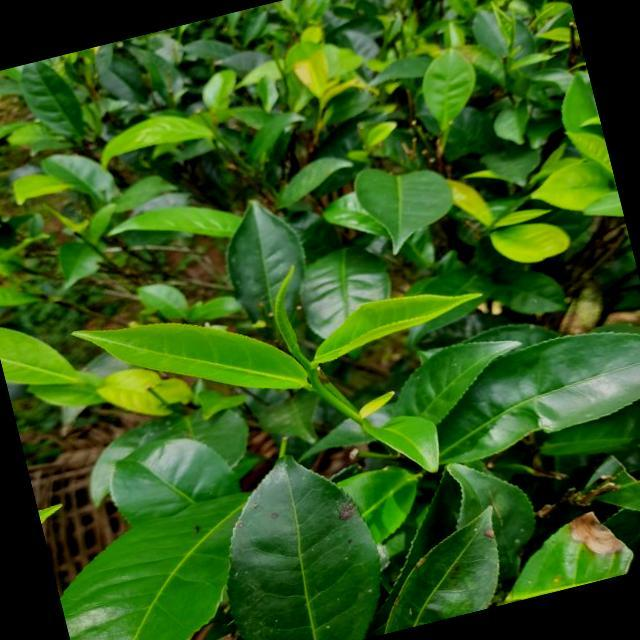Stem: (316, 384, 338, 404)
